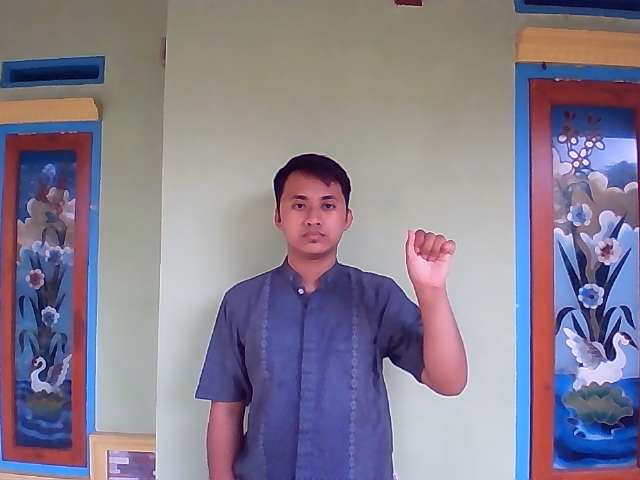A: (398, 225, 458, 296)
